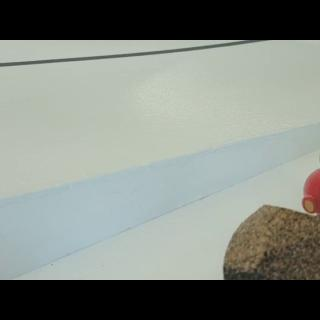teletubby: (302, 168, 320, 217)
